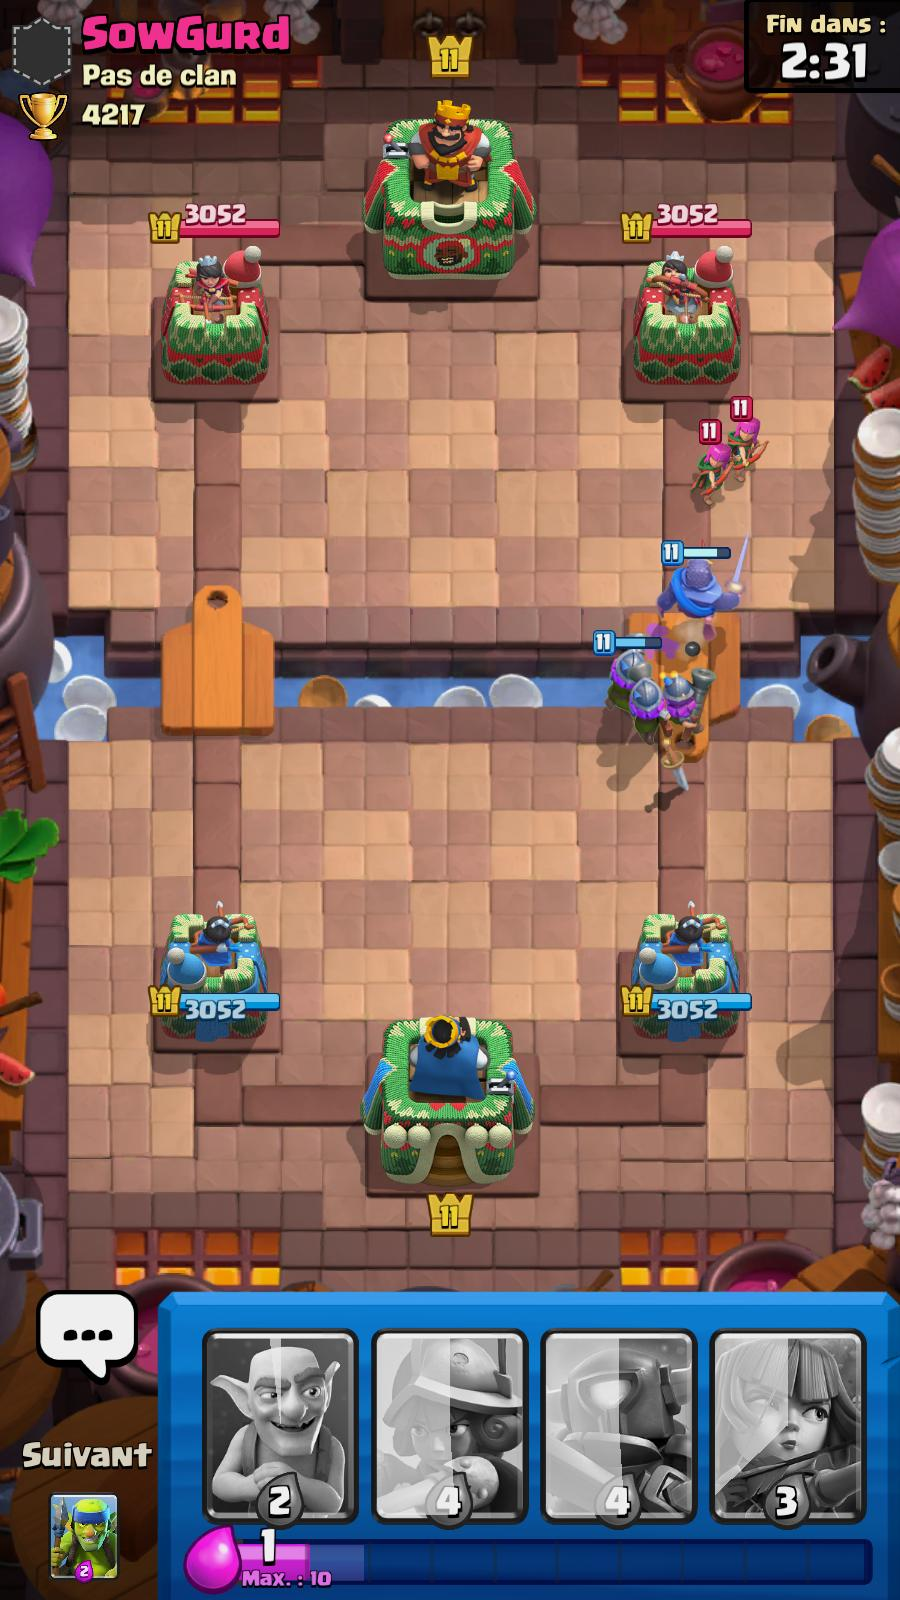archere: (730, 392, 771, 476), (693, 421, 730, 500)
chevalier: (657, 538, 753, 626)
mousquetaire: (595, 632, 662, 716), (664, 662, 710, 746), (629, 660, 673, 743)
